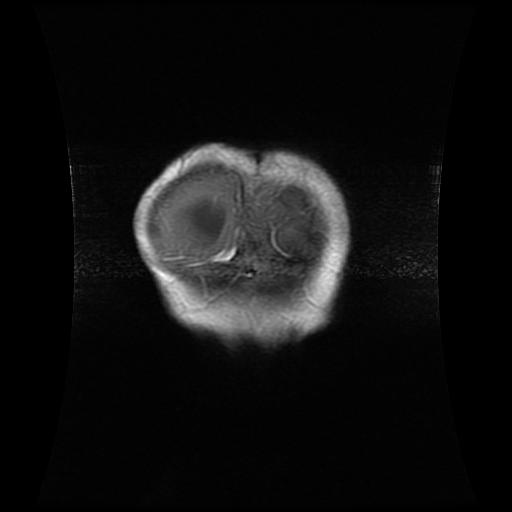Gliomia_tumour: (178, 195, 227, 248)
